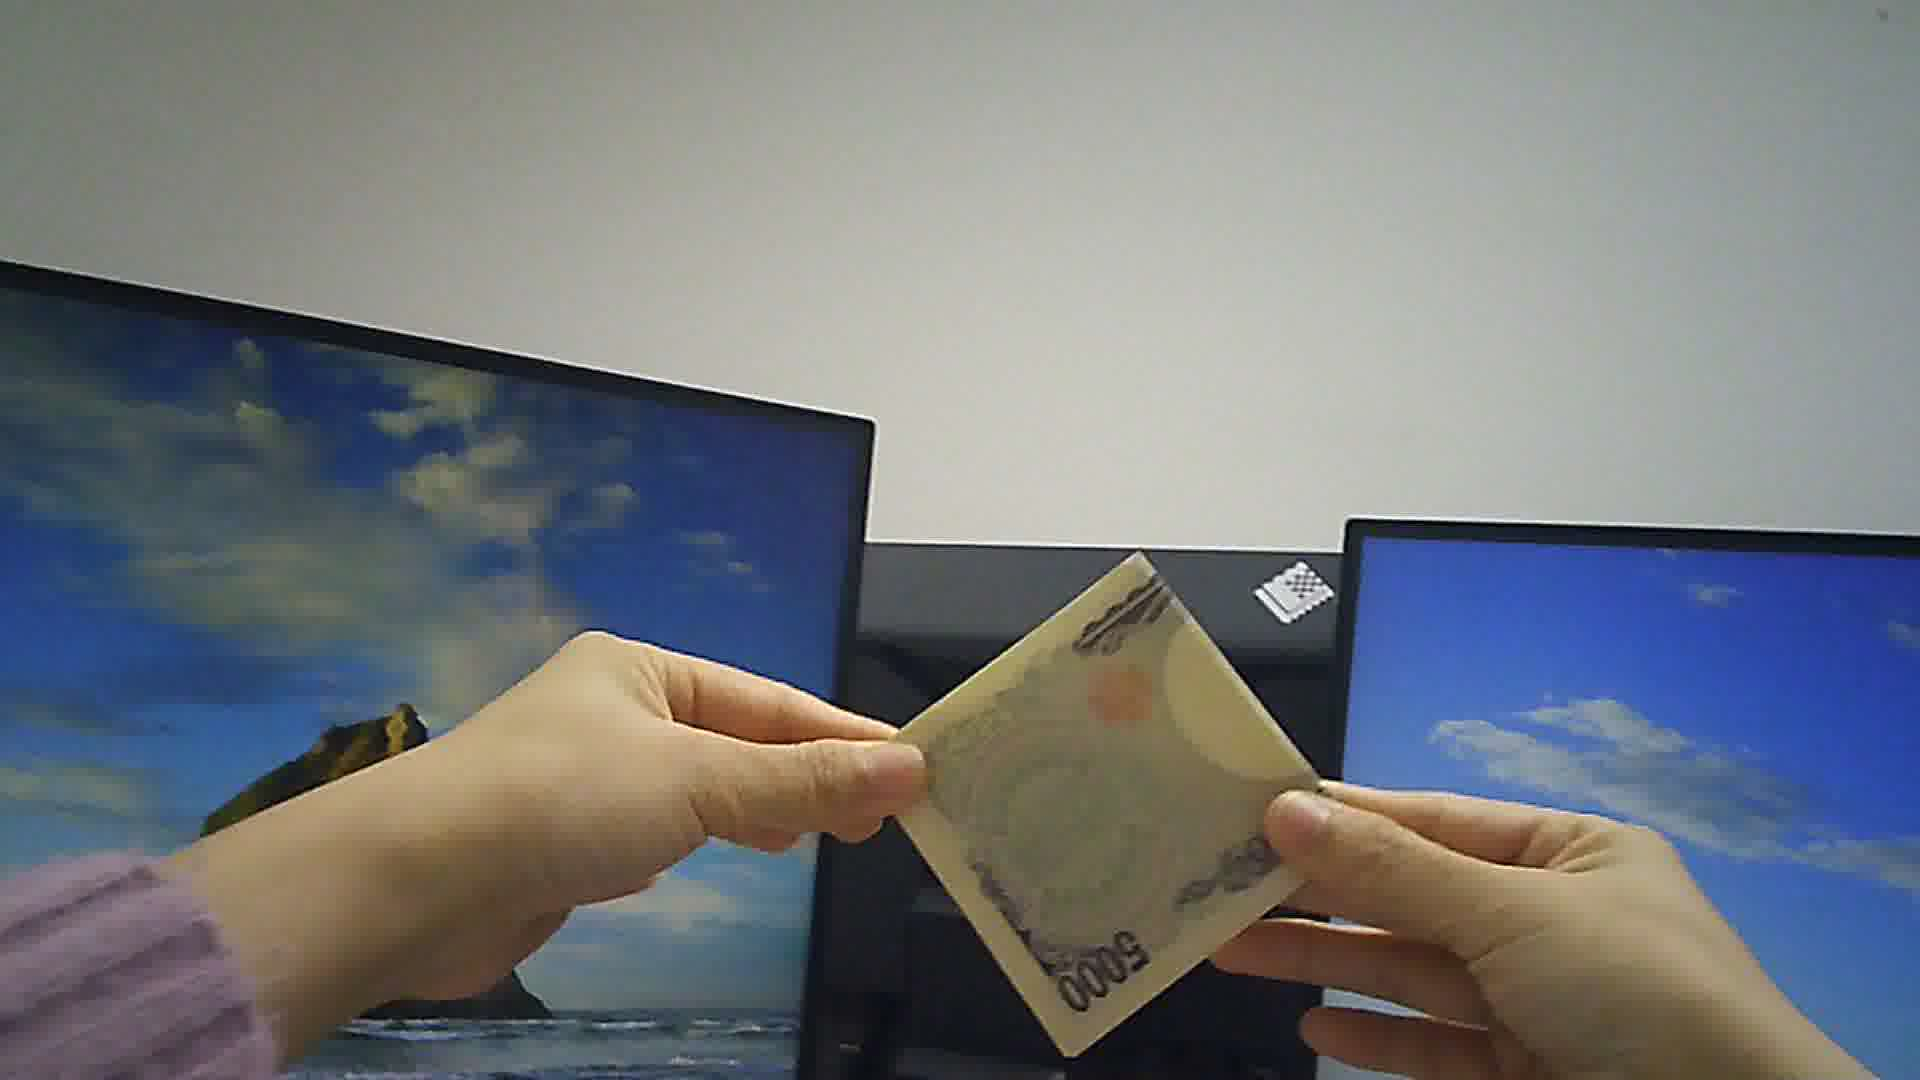5,000 Yen: (855, 538, 1362, 1064)
